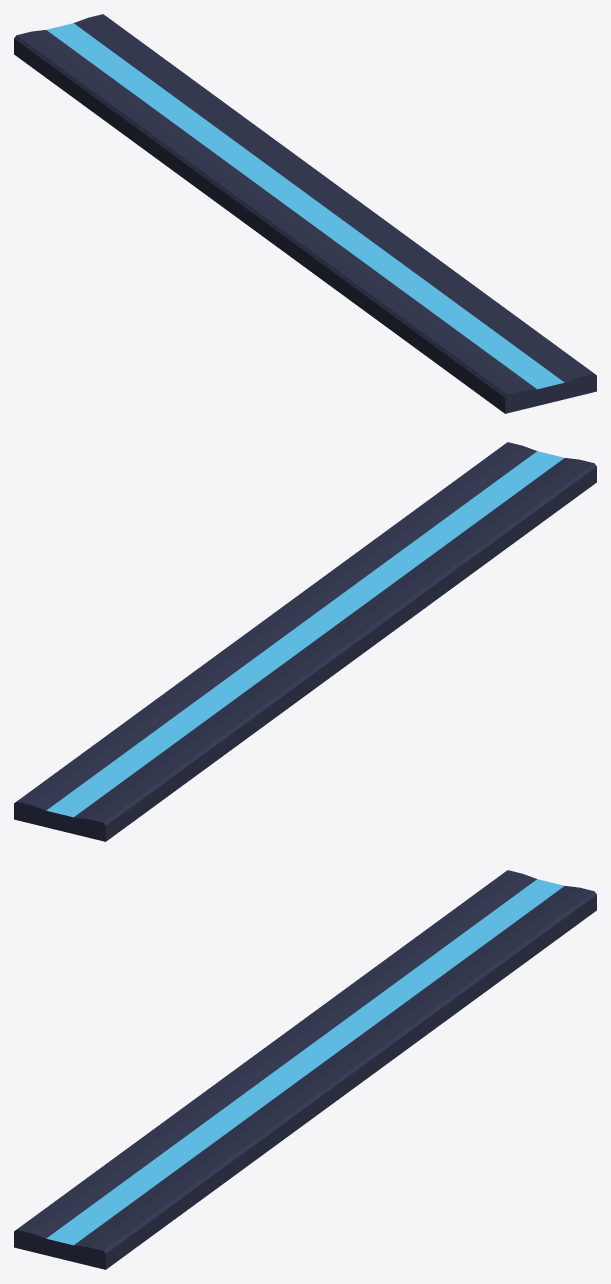
File: Guide.fbx
The picture shows the model from 3 angles, top to bottom: view 1: azimuth 30°, elevation 25°; view 2: azimuth 150°, elevation 25°; view 3: azimuth 330°, elevation 25°; orthographic projection.
Visible parts, largest first — view 1: Guide; view 2: Guide; view 3: Guide.
Part boxes in pixels (<box>): Guide: <box>14,14,596,413</box>; Guide: <box>14,442,596,841</box>; Guide: <box>14,870,596,1269</box>.
Size of the model in its own units: 75.54 by 14.57 by 700.
